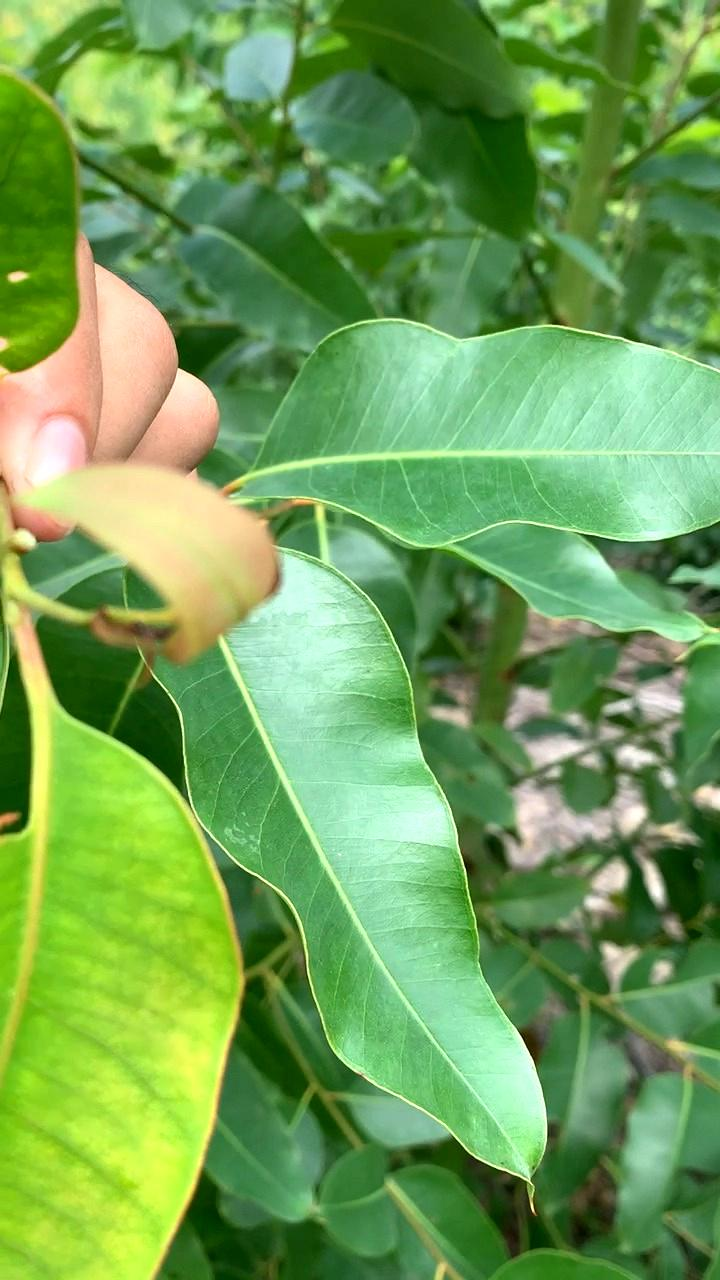Helopeltis-Withered Sprout: (35, 458, 287, 669)
